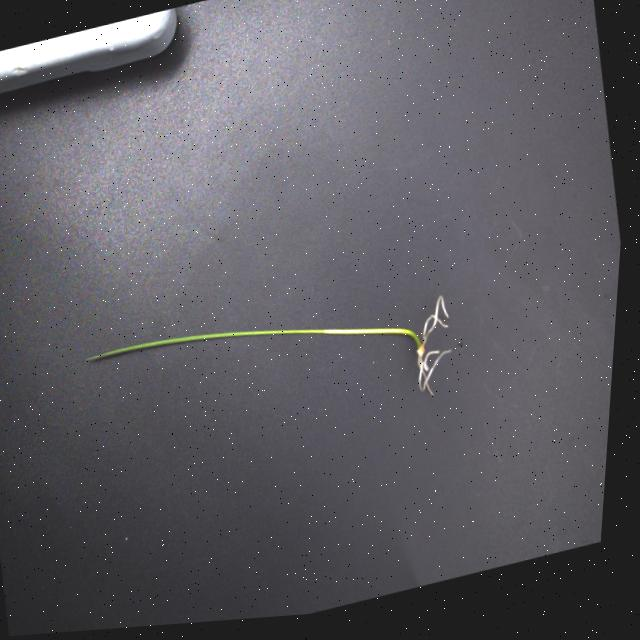leaf: (84, 327, 323, 364)
root: (416, 295, 452, 398)
steb: (322, 327, 422, 348)
